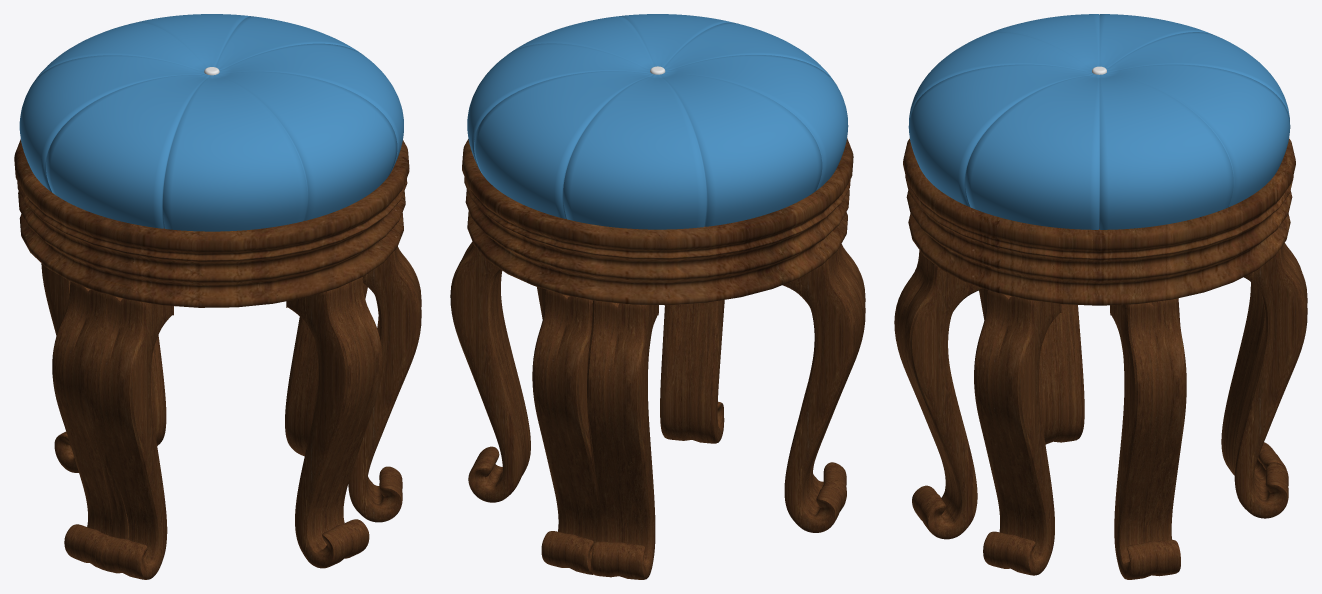
File: tabure3.glb
3 renders of one model, left to right at view 1: azimuth 30°, elevation 25°; view 2: azimuth 150°, elevation 25°; view 3: azimuth 270°, elevation 25°, orthographic.
Visible parts, largest first — view 1: cusion, base, leg44, leg31, leg41, leg33, leg43, leg42, leg32; view 2: cusion, base, leg42, leg32, leg41, leg43, leg44, leg31; view 3: cusion, base, leg33, leg43, leg44, leg32, leg41, leg42.
Boxes of the visible parts, x1,y1,x2,y2 form: cusion: [19, 14, 403, 231]; base: [14, 139, 409, 307]; leg44: [286, 277, 382, 568]; leg31: [87, 293, 173, 579]; leg41: [52, 281, 128, 571]; leg33: [348, 246, 421, 522]; leg43: [285, 283, 367, 456]; leg42: [41, 263, 78, 472]; leg32: [150, 335, 166, 445]; cusion: [467, 14, 848, 229]; base: [462, 138, 853, 305]; leg42: [587, 300, 658, 579]; leg32: [532, 289, 603, 574]; leg41: [782, 247, 864, 532]; leg43: [450, 242, 530, 502]; leg44: [660, 300, 724, 443]; leg31: [801, 244, 865, 508]; cusion: [908, 14, 1290, 229]; base: [903, 138, 1295, 305]; leg33: [974, 290, 1061, 575]; leg43: [1110, 298, 1186, 579]; leg44: [894, 250, 983, 539]; leg32: [1234, 244, 1307, 518]; leg41: [1040, 304, 1084, 444]; leg42: [1221, 243, 1302, 482].
Bounding box in the file's own units: 0.5454 × 0.6516 × 0.5494.
4 materials, 2 textured.
